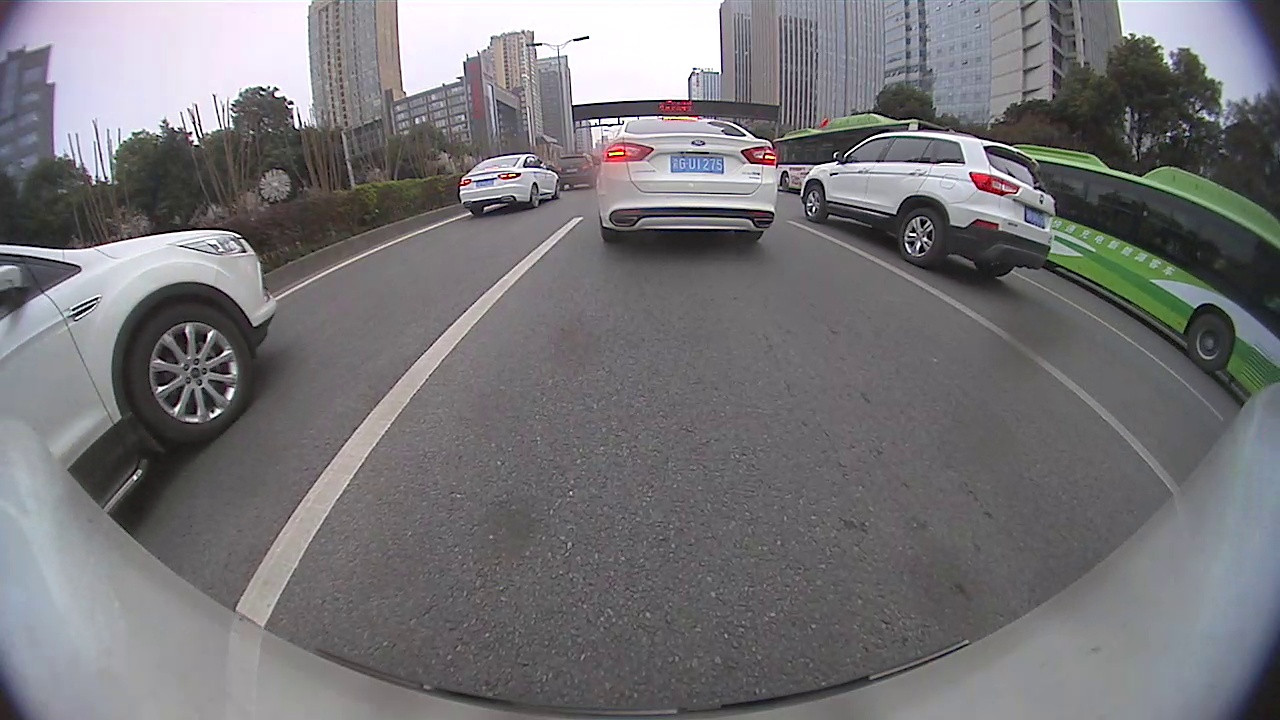bus: (1010, 143, 1279, 400), (772, 114, 951, 194)
car: (1, 229, 278, 520), (800, 131, 1055, 276), (596, 116, 777, 243), (459, 153, 561, 216), (555, 152, 601, 192)
front: (131, 312, 263, 444), (799, 181, 829, 224)
rear: (894, 206, 946, 267), (1186, 313, 1236, 371), (530, 183, 539, 208)
